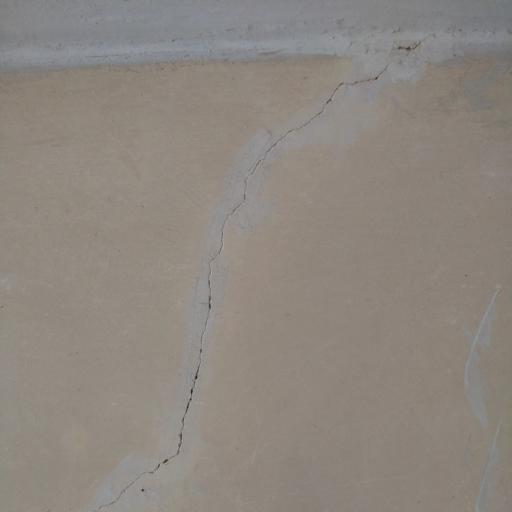minor_crack: (90, 13, 445, 512)
